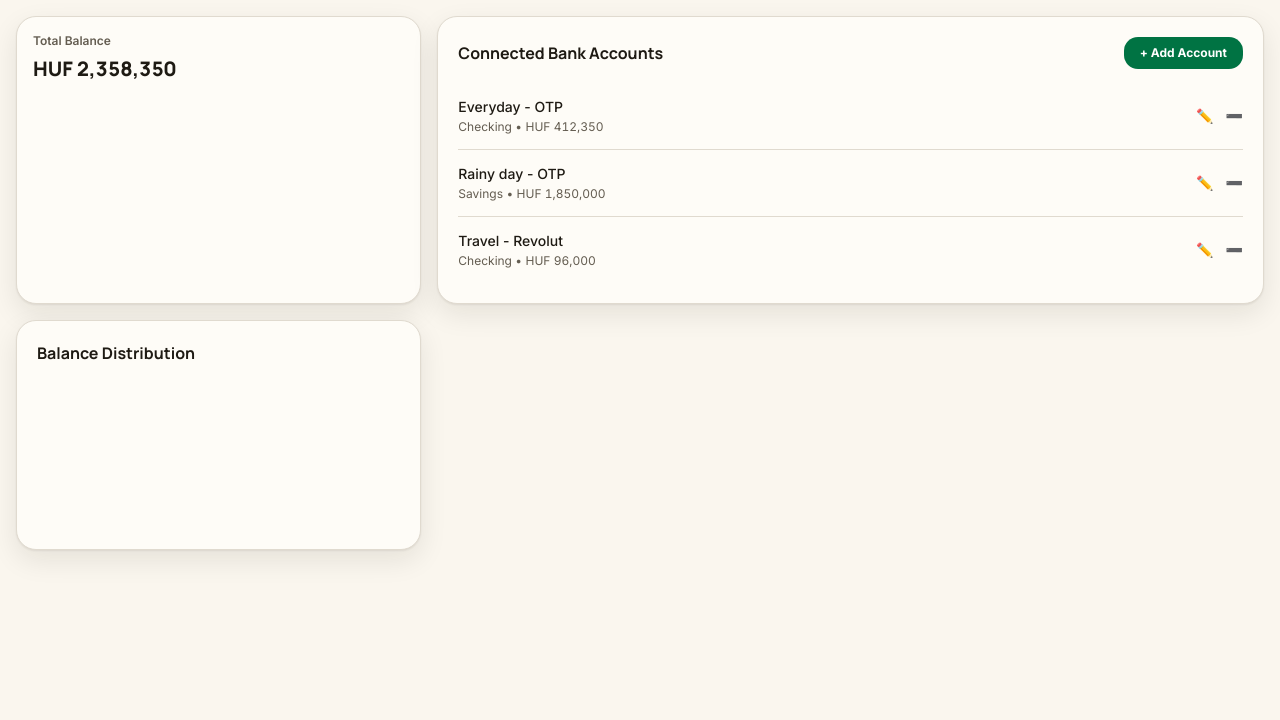
Test: BankAccounts › edits an account through the modal, sends it to the PUT endpoint, refetches, and closes
The width and height of the screenshot is (1280, 720).
Click the button "✏️" in the row of "Everyday - OTP". click: (1205, 116)
box: [1196,106,1214,126]
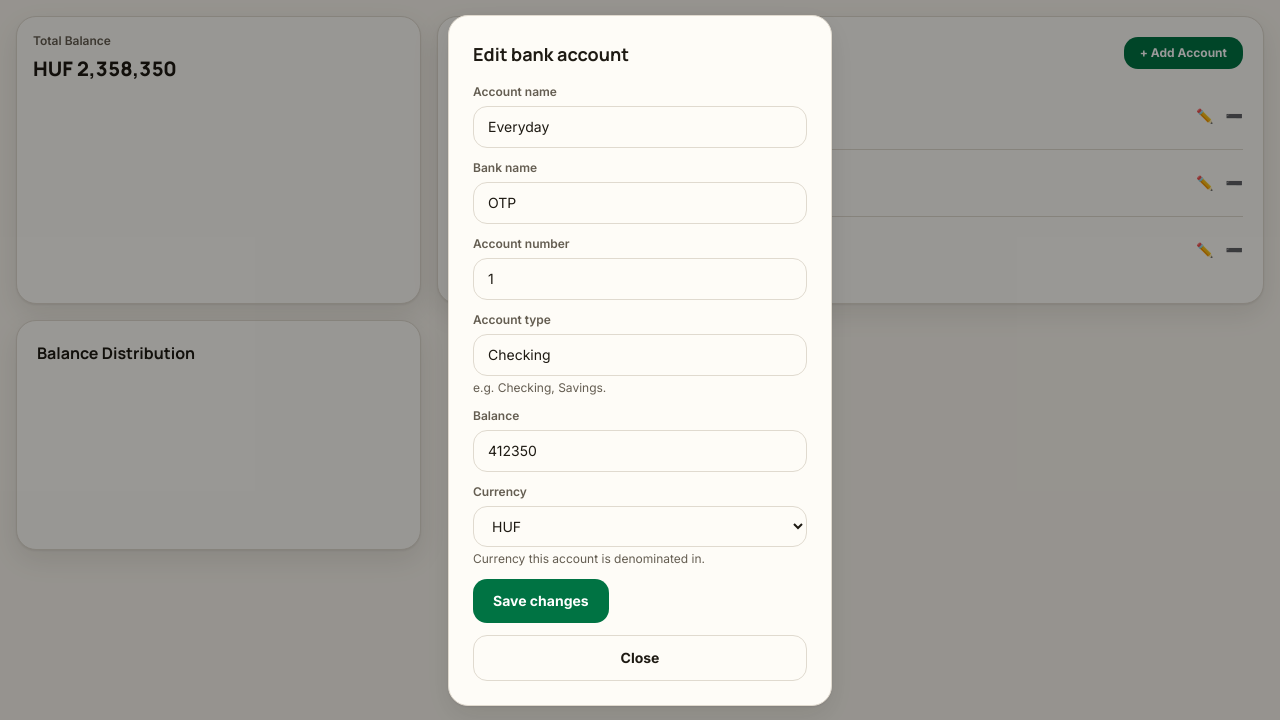
Replace the text in the number field with placeholder "Balance" with "999999". click: (640, 450)
box: [473,430,807,472]
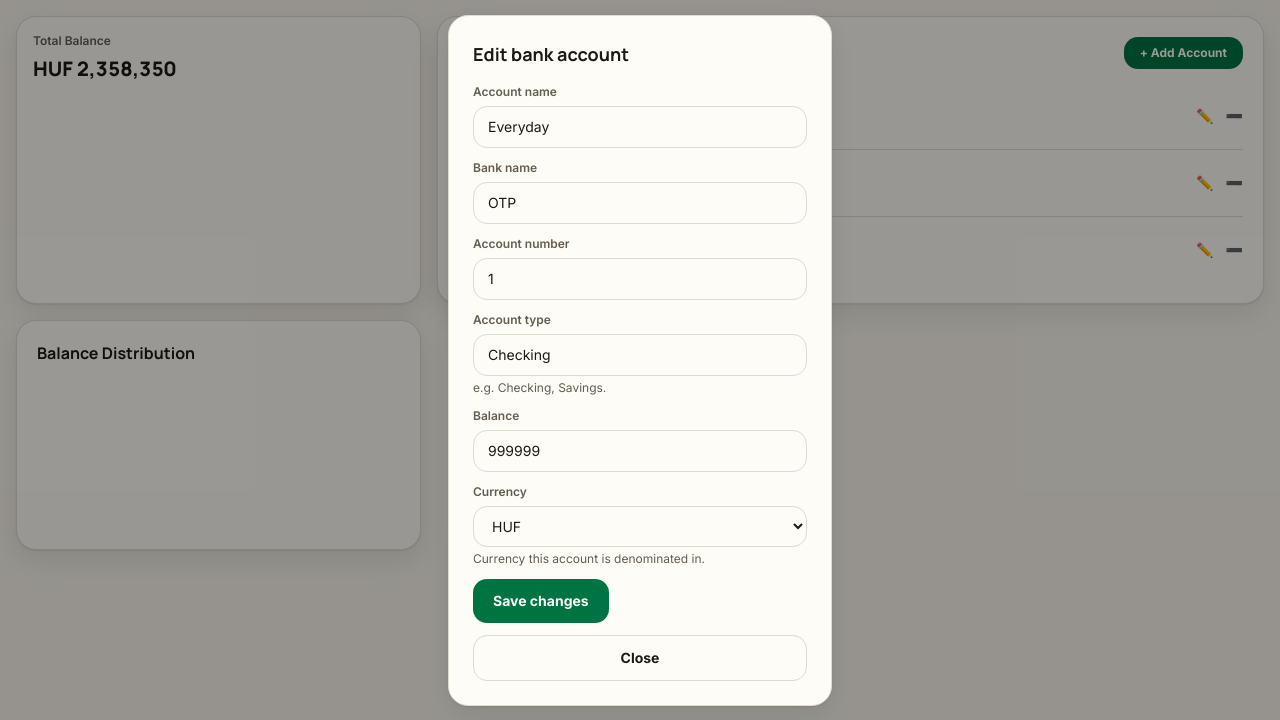
Submit the form, box [473,84,807,622]
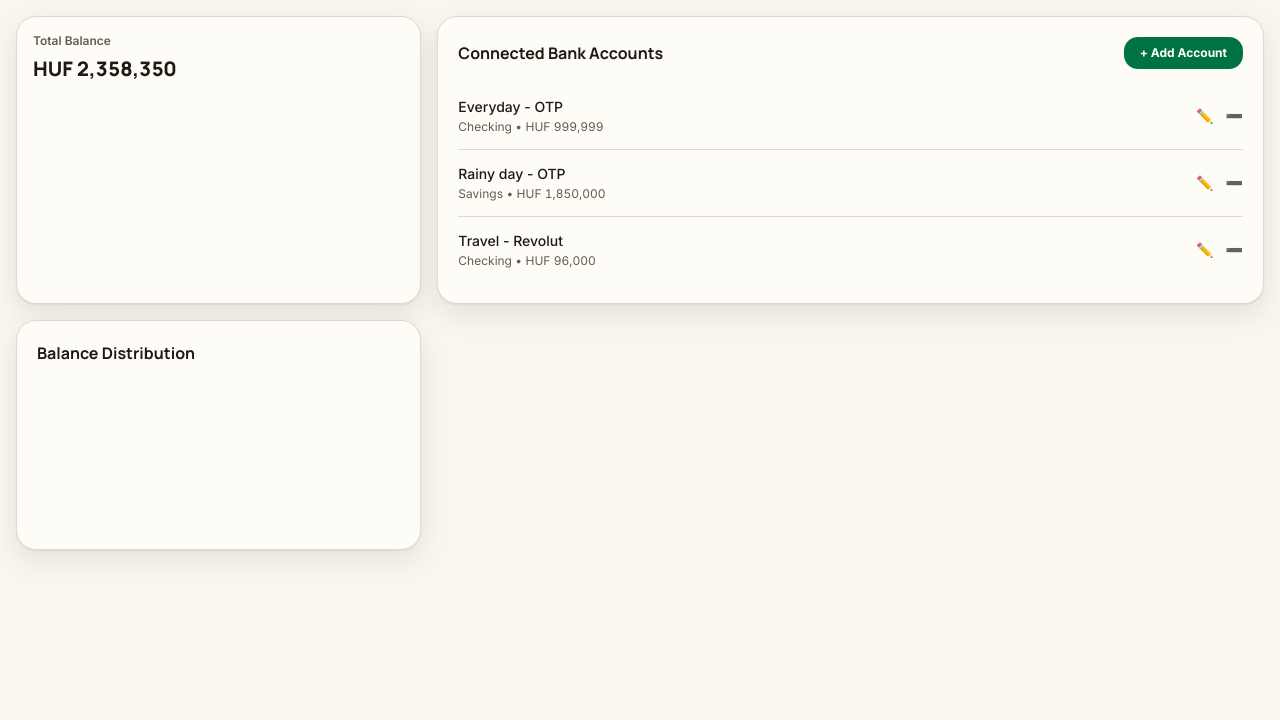
Result: the text "Edit bank account" is gone
